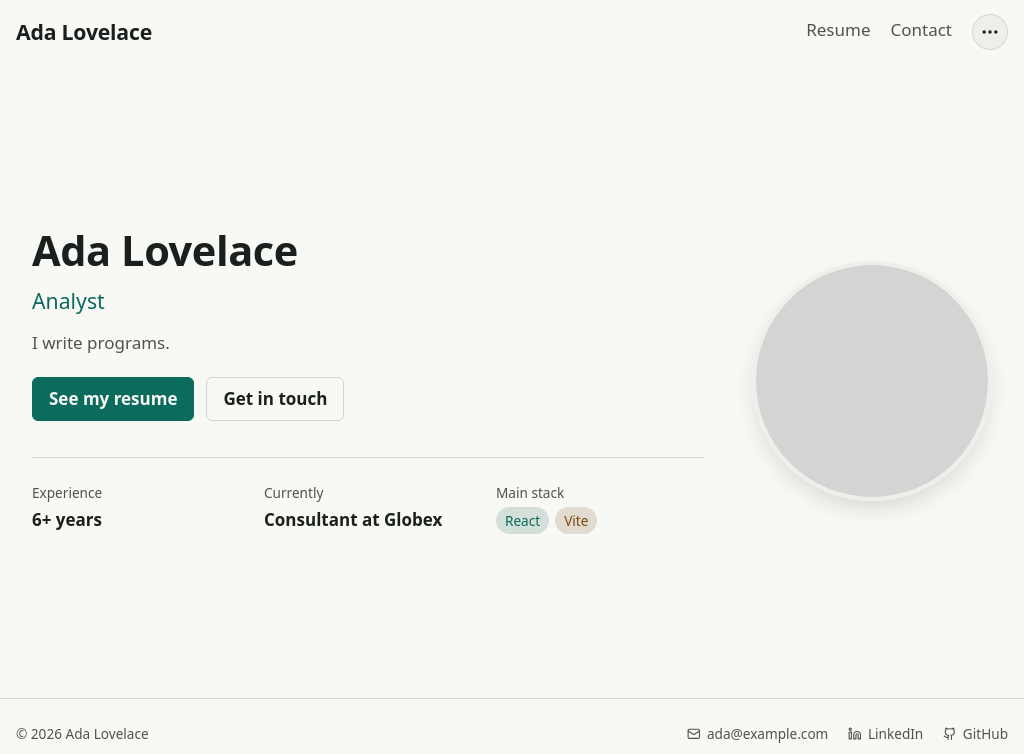
Test case: AppRoutes › goes to the resume page from the navigation
What coordinates should you click on to do the following:
click the link "Resume"
I would click on:
 (838, 31)
Its box is [806,13,870,50].
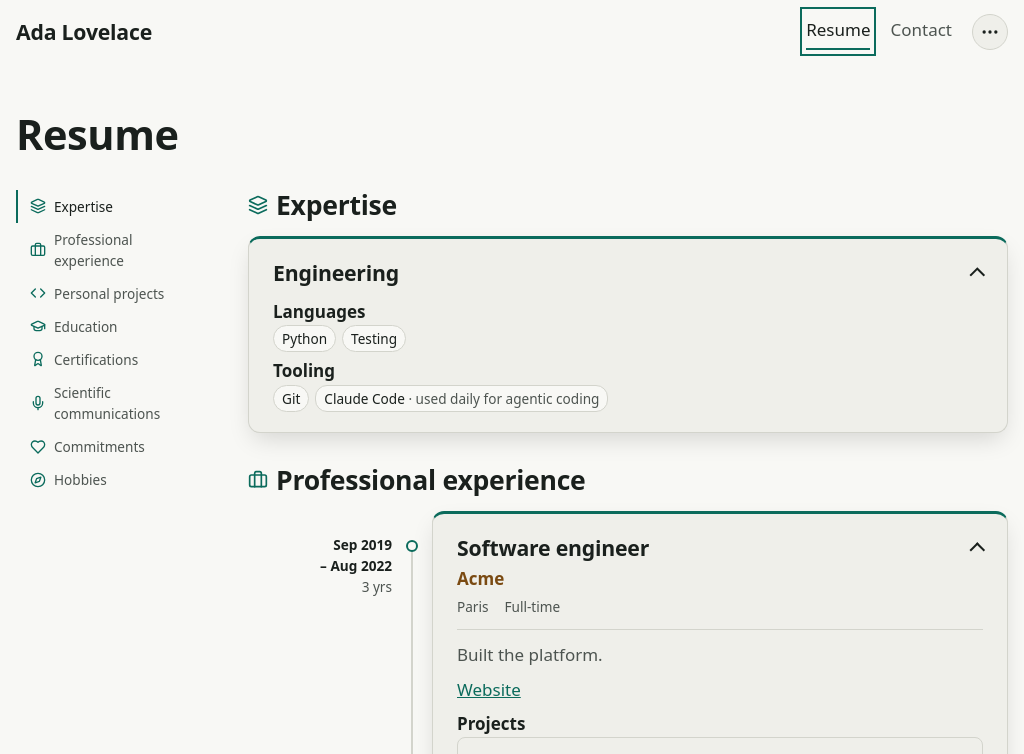
Check: the heading "Resume" is shown, box [16,106,179,162]
